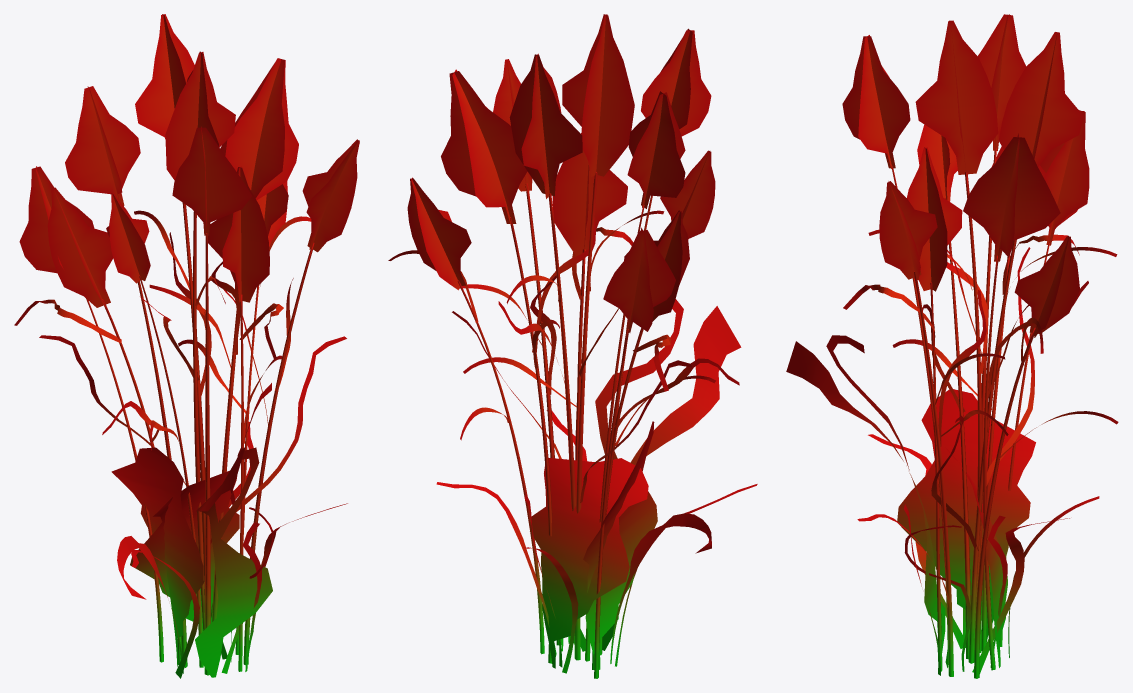
Rendered from skljc_Var1_LOD0.fbx.
3 views of the same model, side by side, from view 1: azimuth 30°, elevation 25°; view 2: azimuth 150°, elevation 25°; view 3: azimuth 270°, elevation 25° (orthographic). The views are drawn at different scales.
Parts seen in each view (by area): view 1: _b4c4_Var1_LOD0; view 2: _b4c4_Var1_LOD0; view 3: _b4c4_Var1_LOD0.
Boxes of the visible parts, x1,y1,x2,y2 form: _b4c4_Var1_LOD0: (14, 14, 359, 678); _b4c4_Var1_LOD0: (388, 14, 757, 678); _b4c4_Var1_LOD0: (786, 14, 1118, 678).
Size of the model in its own units: 41.67 by 85.89 by 40.65.
